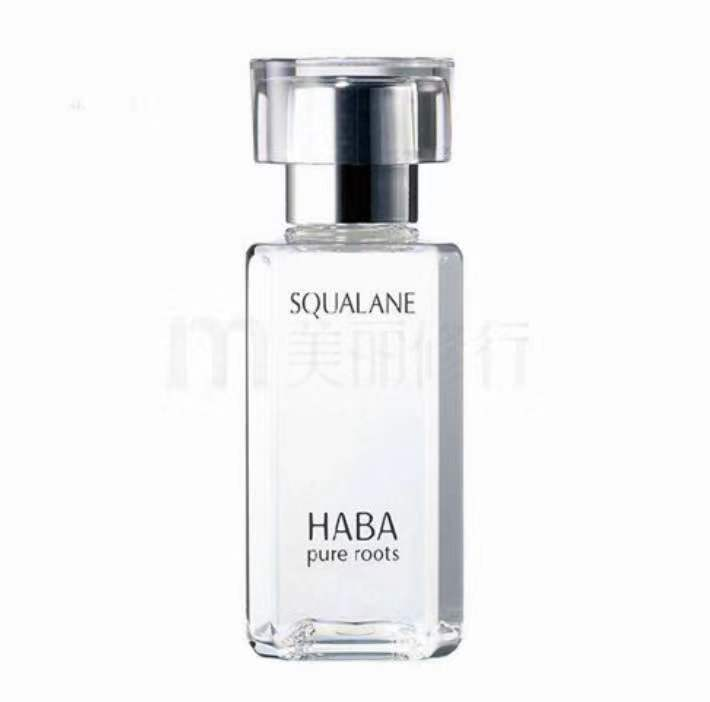cosmetic: (244, 56, 464, 658)
